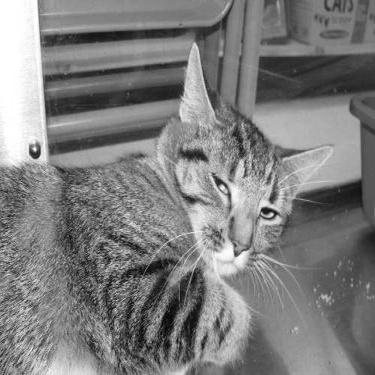cat: (1, 35, 333, 365)
